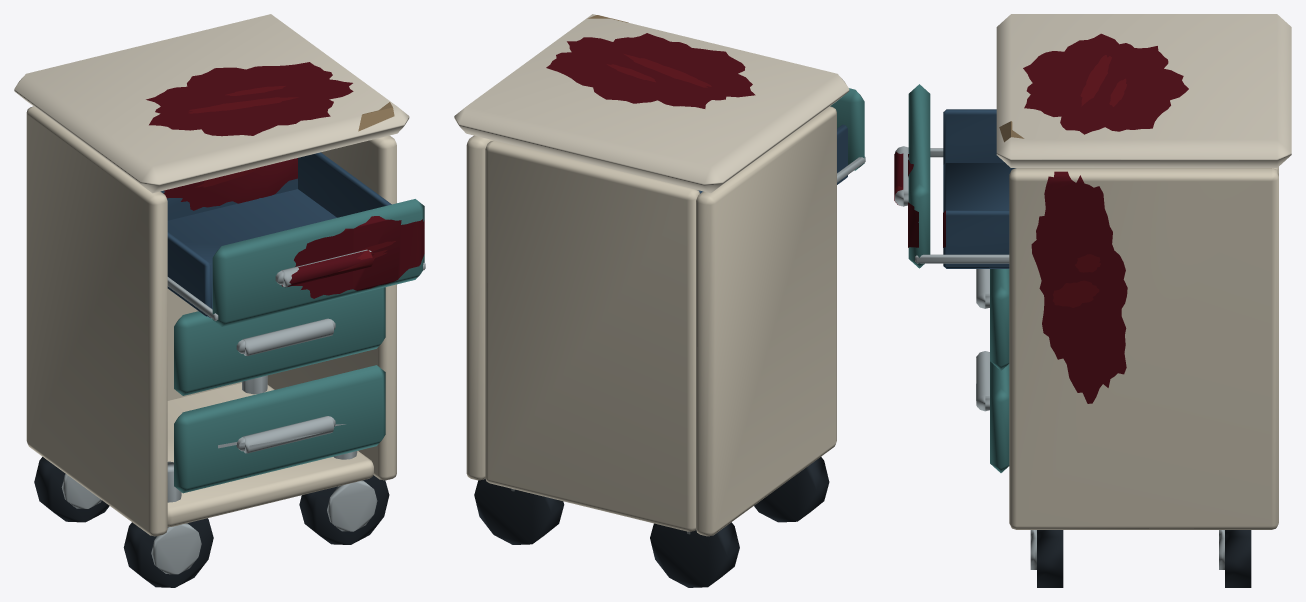
Rendered from bedside_cabinet.glb.
3 views of the same model, side by side, from view 1: azimuth 30°, elevation 25°; view 2: azimuth 150°, elevation 25°; view 3: azimuth 270°, elevation 25° (orthographic). The views are drawn at different scales.
Visible parts, largest first — view 1: OB_BedsideCabinet_01_Static; view 2: OB_BedsideCabinet_01_Static; view 3: OB_BedsideCabinet_01_Static.
Part boxes in pixels (x1=…): OB_BedsideCabinet_01_Static: x1=14, y1=14, x2=425, y2=587; OB_BedsideCabinet_01_Static: x1=454, y1=14, x2=865, y2=587; OB_BedsideCabinet_01_Static: x1=894, y1=14, x2=1291, y2=587.
Bounding box in the file's own units: 0.52 × 0.8128 × 0.633.
